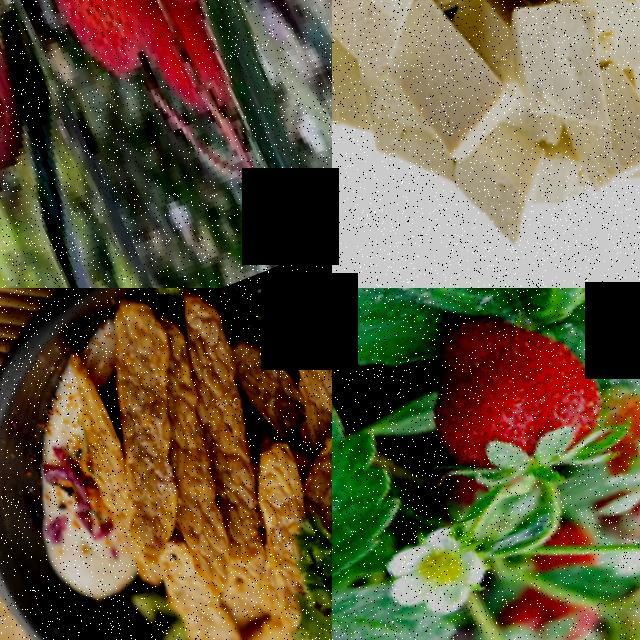strawberry: (410, 304, 621, 502)
tofu: (366, 0, 519, 170), (484, 0, 639, 150), (446, 120, 572, 254), (566, 97, 640, 204), (332, 0, 430, 74), (562, 0, 640, 71)
